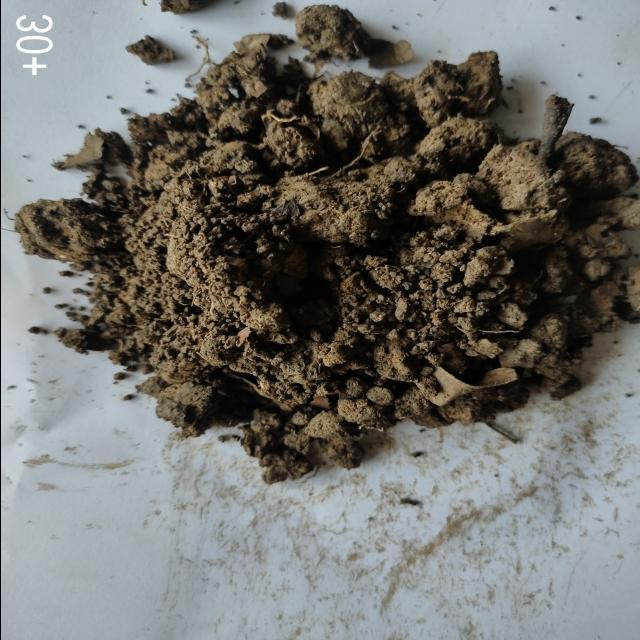soil: (173, 114, 493, 356)
